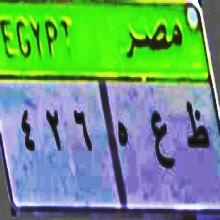2: (44, 104, 64, 152)
4: (22, 103, 35, 158)
6: (72, 102, 92, 170)
Thaa: (180, 100, 210, 170)
ain: (151, 105, 174, 182)
haa: (117, 114, 129, 163)
